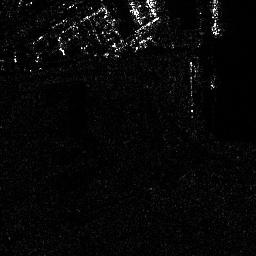ship: (210, 1, 223, 37)
